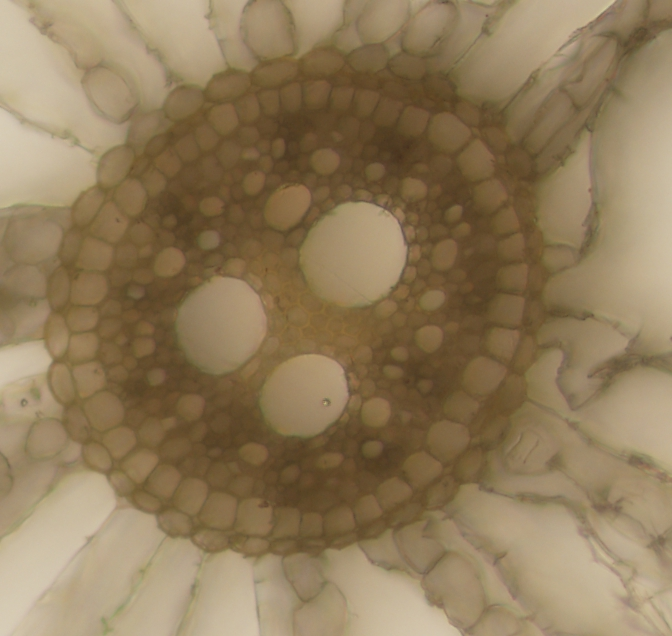lm: (296, 201, 408, 308), (174, 272, 269, 375), (259, 354, 348, 438)
